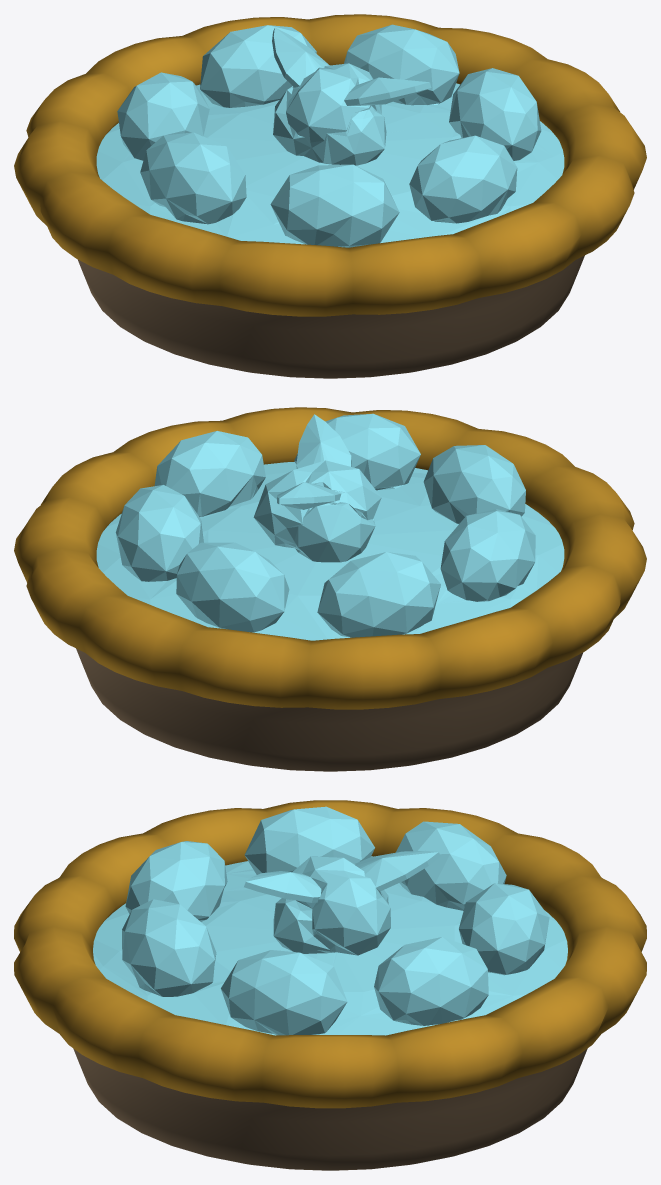
Rendered from Glass_Crop_Pie.glb.
3 views of the same model, one above another, from view 1: azimuth 30°, elevation 25°; view 2: azimuth 150°, elevation 25°; view 3: azimuth 270°, elevation 25° (orthographic).
Parts seen in each view (by area): view 1: Glass_Crop_Pie_Crust, Glass_Crop_Pie_Fill; view 2: Glass_Crop_Pie_Crust, Glass_Crop_Pie_Fill; view 3: Glass_Crop_Pie_Crust, Glass_Crop_Pie_Fill.
Boxes of the visible parts, x1,y1,x2,y2 form: Glass_Crop_Pie_Crust: (14,14,646,378); Glass_Crop_Pie_Fill: (96,24,564,247); Glass_Crop_Pie_Crust: (14,407,646,771); Glass_Crop_Pie_Fill: (96,413,564,640); Glass_Crop_Pie_Crust: (14,800,646,1170); Glass_Crop_Pie_Fill: (93,806,567,1035).
Bounding box in the file's own units: 0.7243 × 0.2732 × 0.7139.
